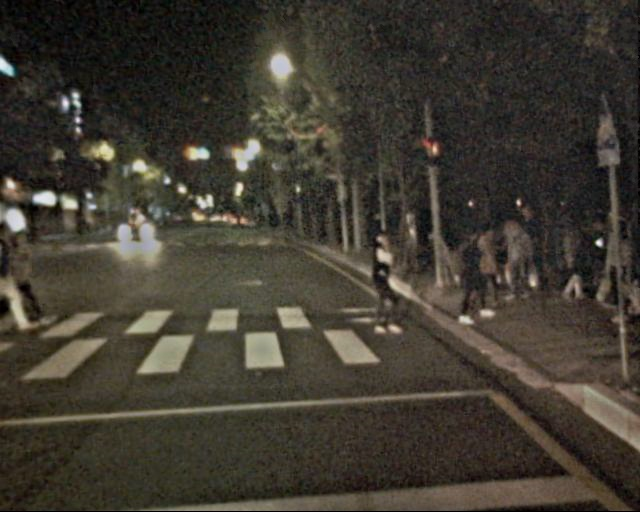person: (463, 207, 539, 329), (358, 228, 404, 339), (1, 223, 47, 329), (599, 223, 640, 325), (552, 210, 590, 302)
